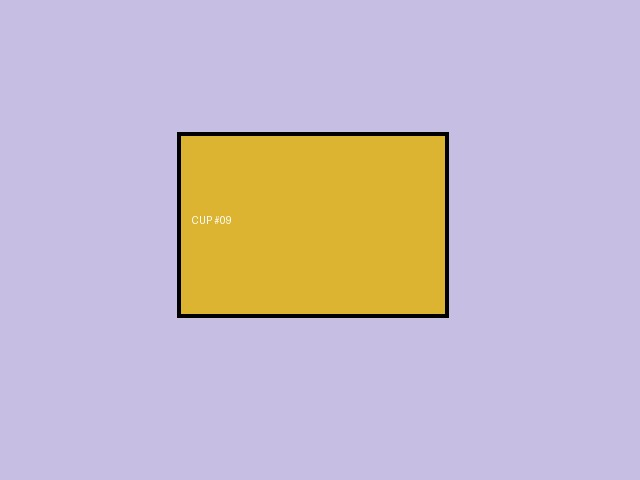cup: (177, 132, 448, 317)
